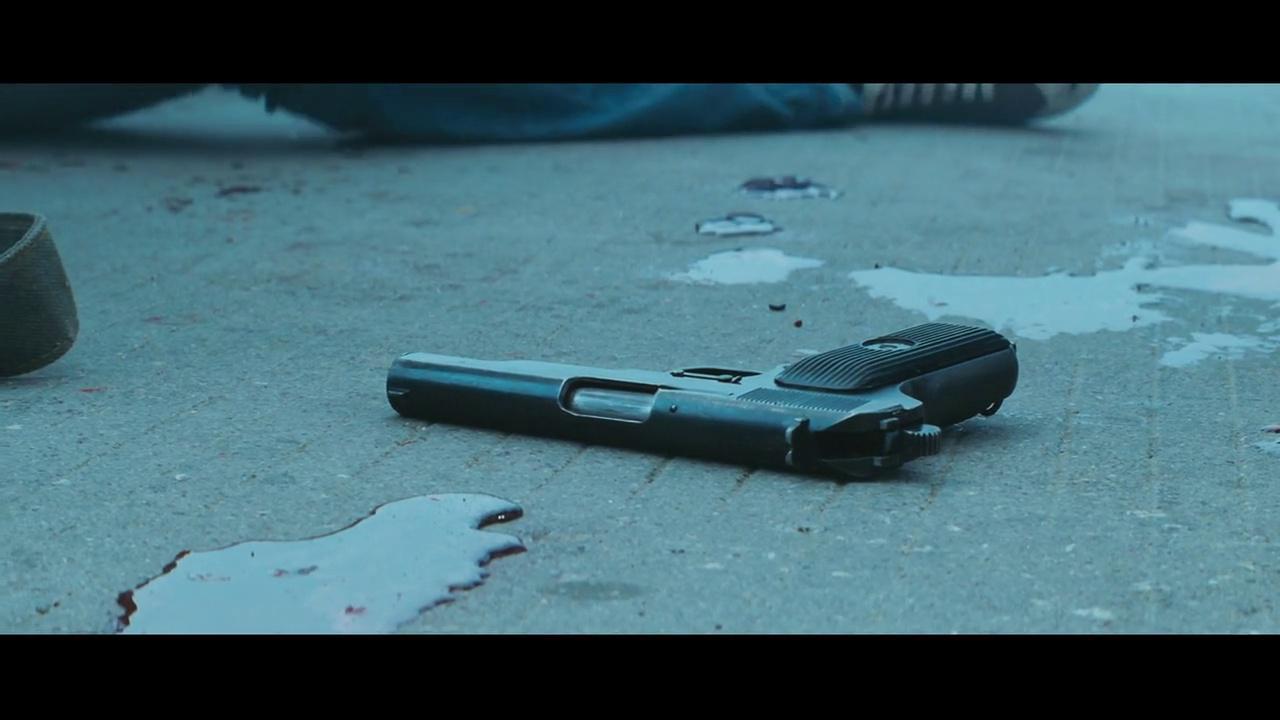gun: (377, 303, 1025, 484)
